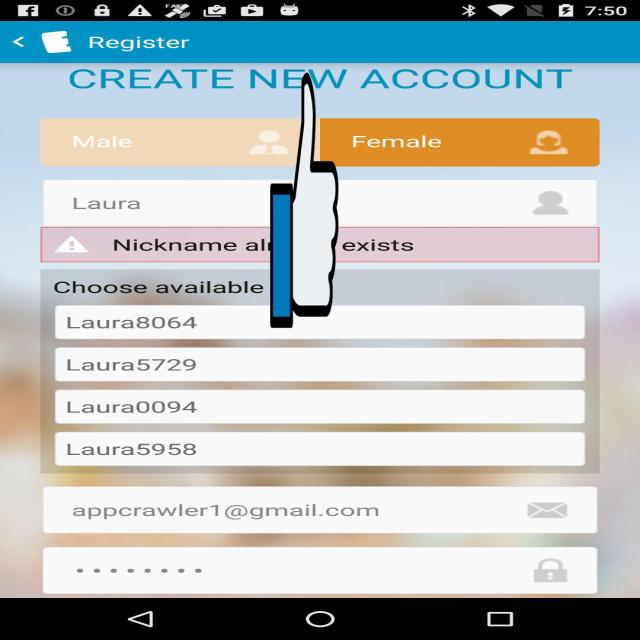privacy zuckering: (270, 67, 338, 333)
